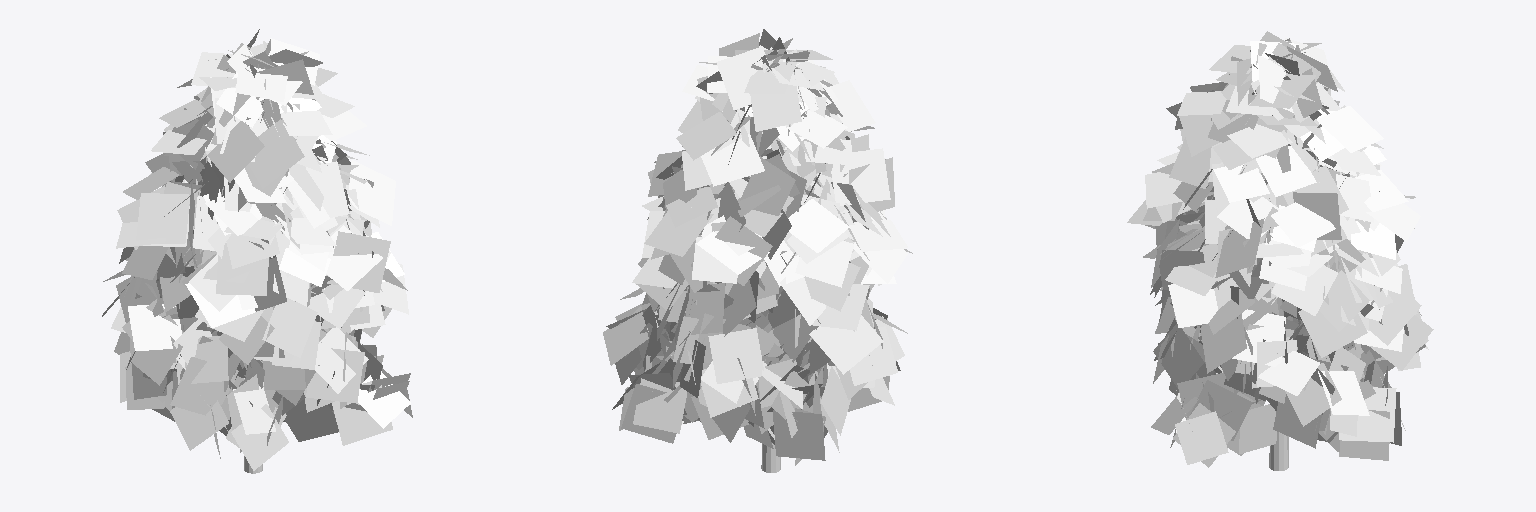
Rendered from Australian_Pine_Model_0.obj.
3 views of the same model, side by side, from view 1: azimuth 30°, elevation 25°; view 2: azimuth 150°, elevation 25°; view 3: azimuth 270°, elevation 25° (orthographic).
Parts seen in each view (by area): view 1: Foliage__leafcard; view 2: Foliage__leafcard; view 3: Foliage__leafcard, Bark.
Part boxes in pixels (x1,y1,x2,y2): Foliage__leafcard: (102,29,412,470); Foliage__leafcard: (603,29,912,465); Foliage__leafcard: (1127,31,1433,467); Bark: (1269,432,1288,470).
Bounding box in the file's own units: 10.37 × 15 × 9.82.